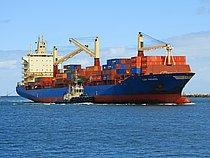Ship: (14, 26, 200, 110)
